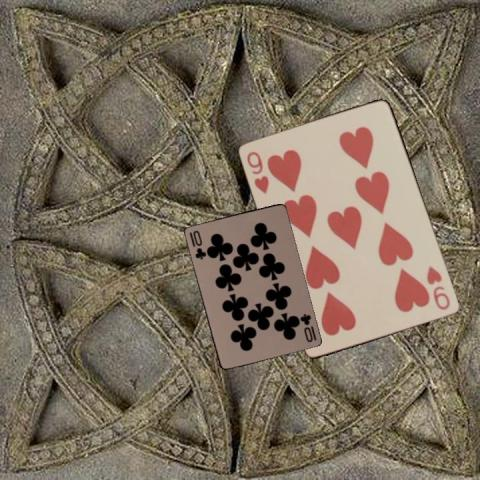10c: (186, 227, 207, 261), (298, 311, 318, 343)
9h: (424, 263, 452, 312), (244, 149, 271, 196)
